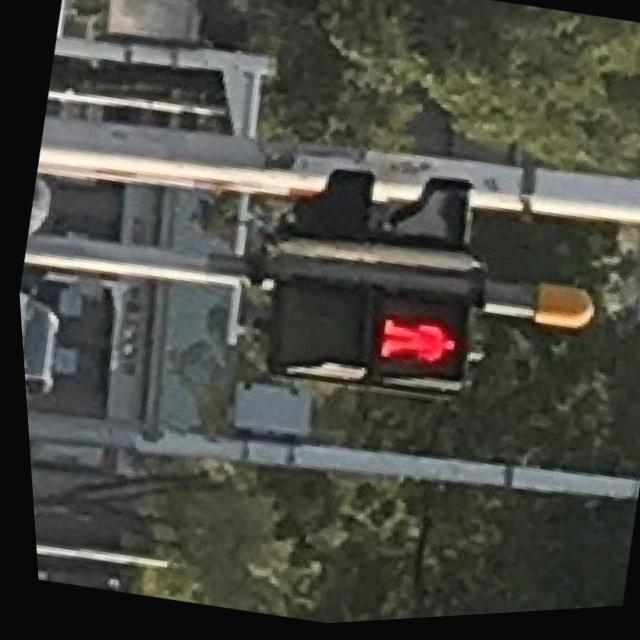red_light: (357, 287, 477, 401)
